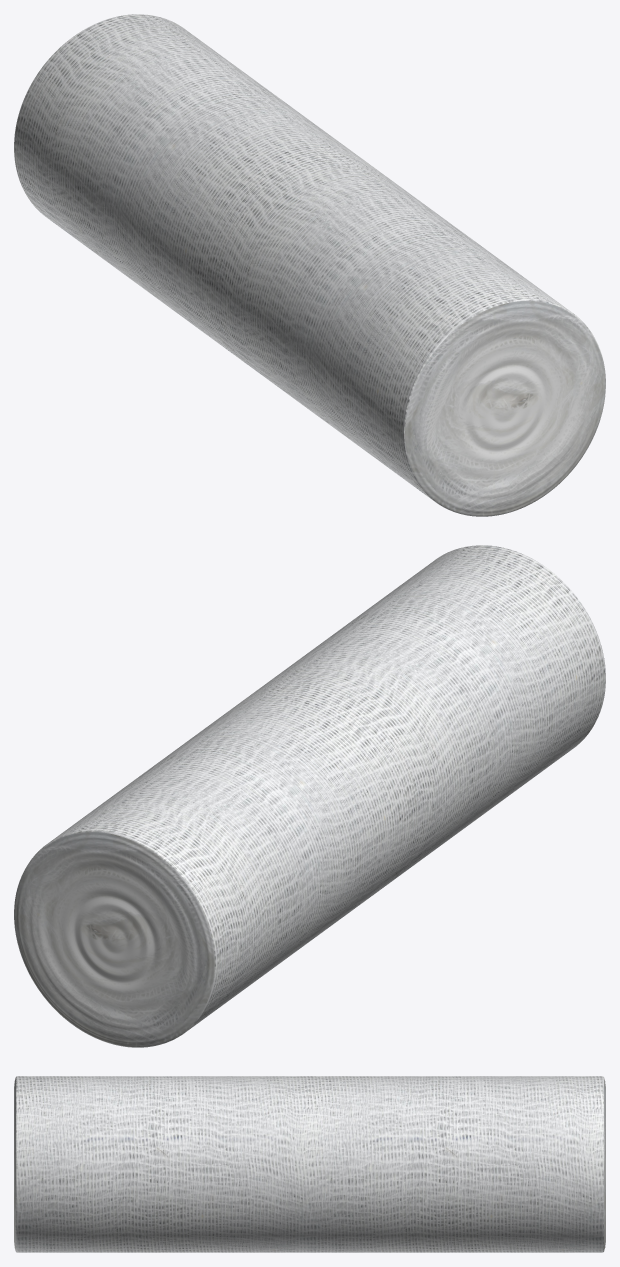
The model's file is bandage.FBX.
3 renders of one model, top to bottom at view 1: azimuth 30°, elevation 25°; view 2: azimuth 150°, elevation 25°; view 3: azimuth 270°, elevation 25°, orthographic. The views are drawn at different scales.
Parts seen in each view (by area): view 1: Bandage_02; view 2: Bandage_02; view 3: Bandage_02.
Part boxes in pixels (<box>): Bandage_02: <box>14,14,605,516</box>; Bandage_02: <box>14,545,605,1047</box>; Bandage_02: <box>14,1076,605,1252</box>.
Size of the model in its own units: 29.61 by 29.61 by 99.48.
Materials: 2 (2 with a texture image).
